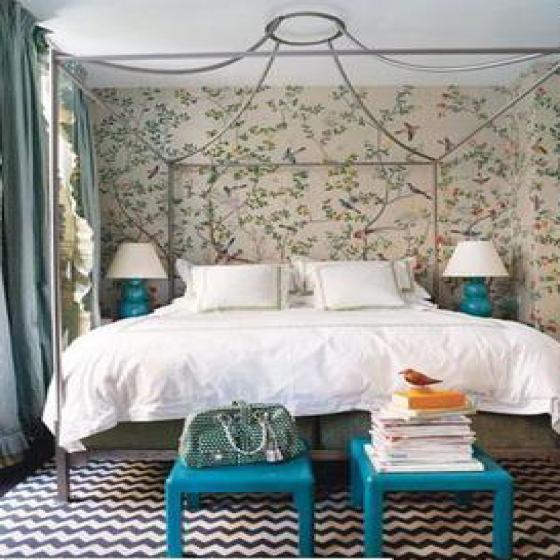bed: (38, 258, 560, 452)
bird: (399, 369, 443, 385), (392, 120, 422, 142)
book: (359, 443, 485, 475), (370, 434, 472, 459), (367, 415, 477, 437), (368, 426, 474, 445), (391, 386, 467, 412)
chair: (164, 446, 315, 559)
handbag: (170, 396, 311, 470)
